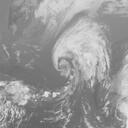cyclone: (51, 18, 111, 85)
